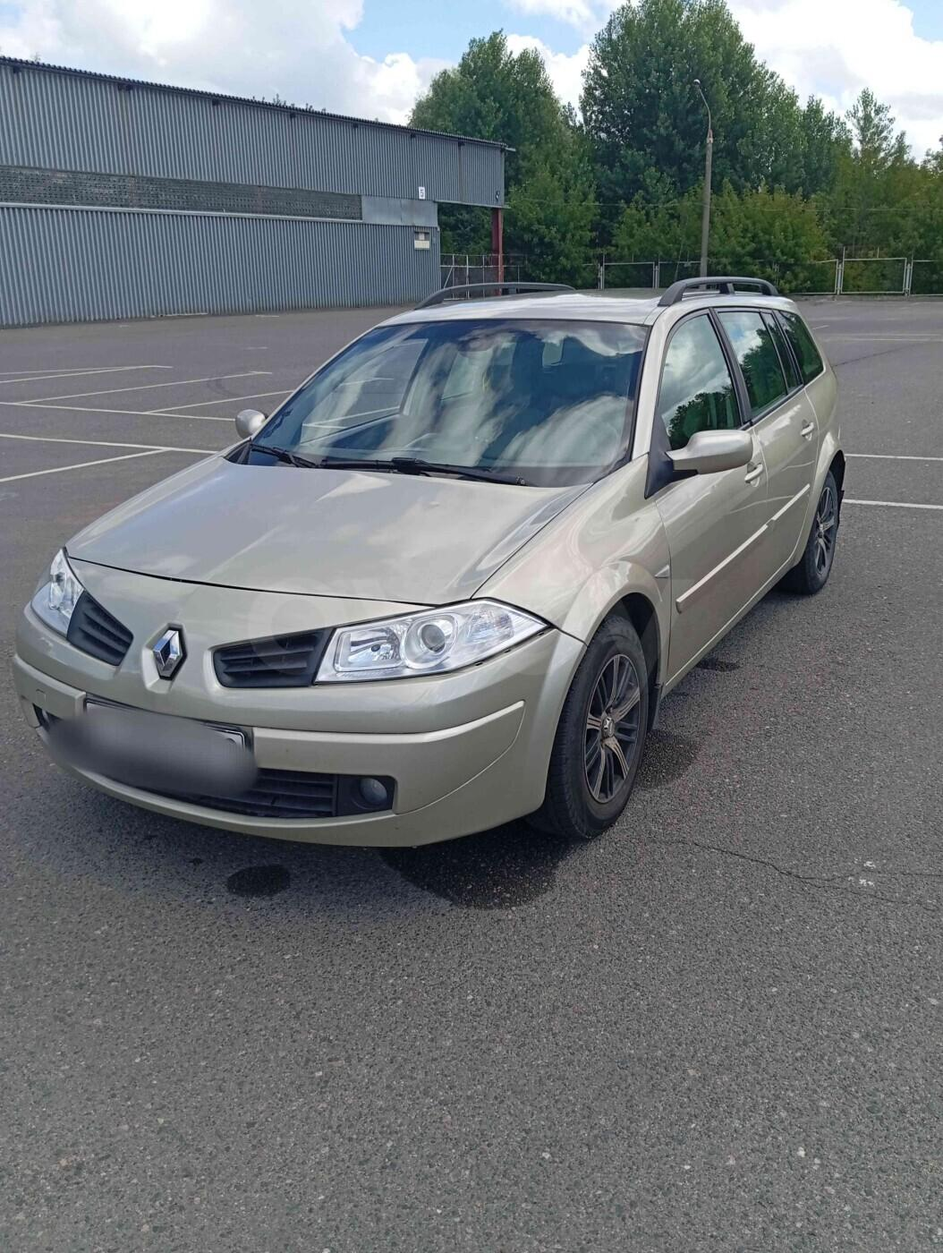Megane_2005-2009: (16, 267, 859, 884)
